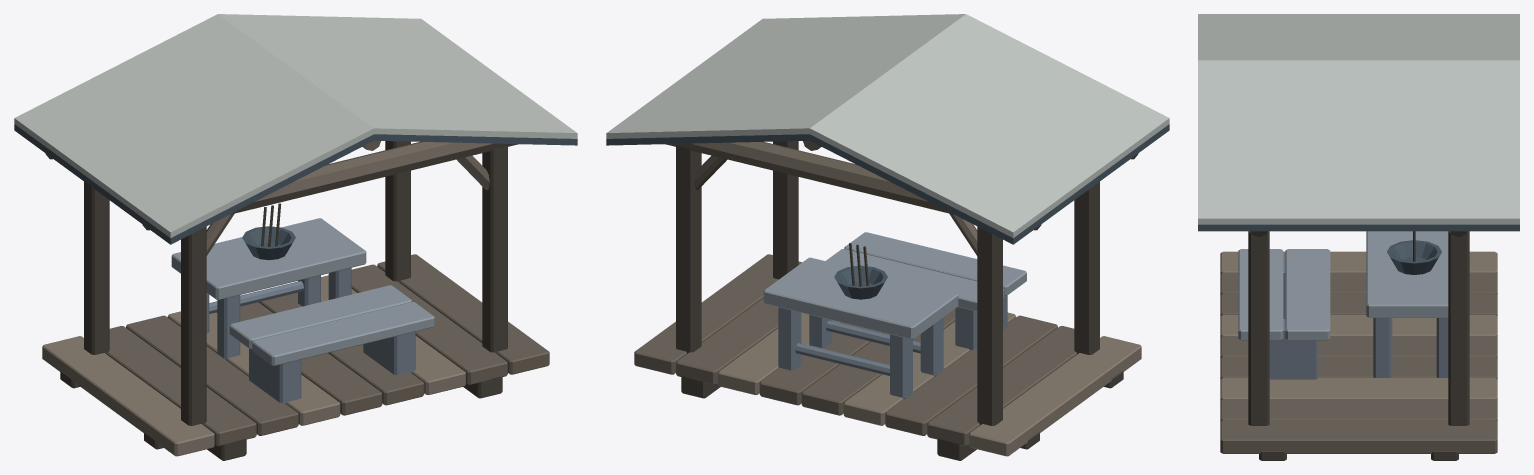
The model's file is shrine-pavilion.glb.
The picture shows the model from 3 angles, left to right: view 1: azimuth 30°, elevation 25°; view 2: azimuth 150°, elevation 25°; view 3: azimuth 270°, elevation 25°; orthographic projection. The views are drawn at different scales.
Visible parts, largest first — view 1: shrine-pavilion__body; view 2: shrine-pavilion__body; view 3: shrine-pavilion__body.
Boxes of the visible parts, <box> form: shrine-pavilion__body: <box>14,14,577,460</box>; shrine-pavilion__body: <box>606,14,1169,460</box>; shrine-pavilion__body: <box>1198,14,1519,460</box>.
Size of the model in its own units: 2.27 by 1.64 by 1.51.
